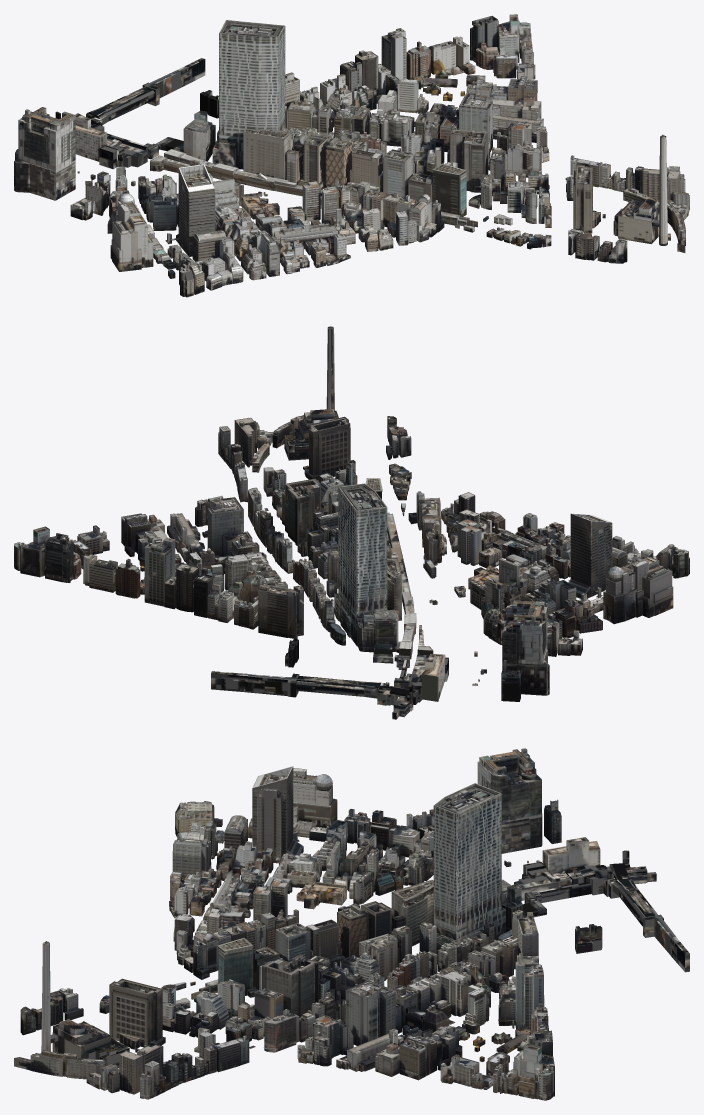
File: 53393586_bldg_lod2.glb
The picture shows the model from 3 angles, top to bottom: view 1: azimuth 30°, elevation 25°; view 2: azimuth 150°, elevation 25°; view 3: azimuth 270°, elevation 25°; orthographic projection. The views are drawn at different scales.
Visible parts, largest first — view 1: 53393586_bldg_lod2; view 2: 53393586_bldg_lod2; view 3: 53393586_bldg_lod2.
Boxes of the visible parts, box(x1,y1,x2,y2) form: 53393586_bldg_lod2: box(14, 14, 689, 297); 53393586_bldg_lod2: box(14, 326, 689, 719); 53393586_bldg_lod2: box(14, 748, 689, 1100).
Size of the model in its own units: 773 by 186 by 762.
Materials: 1 (1 with a texture image).
